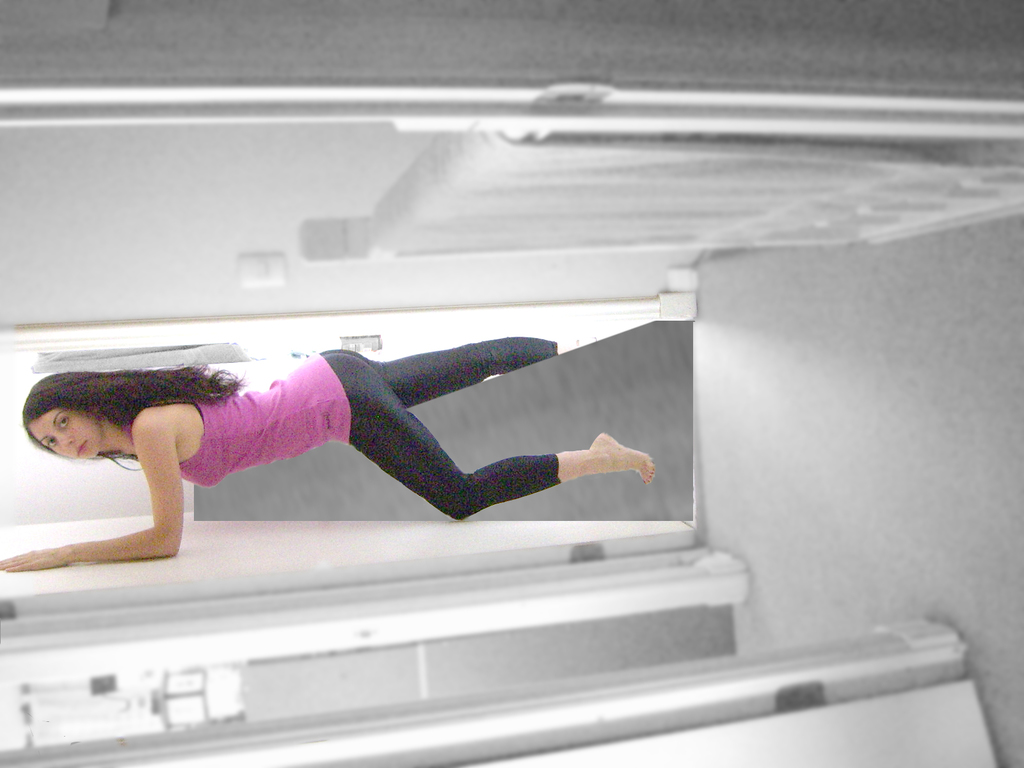face: (25, 403, 112, 462)
